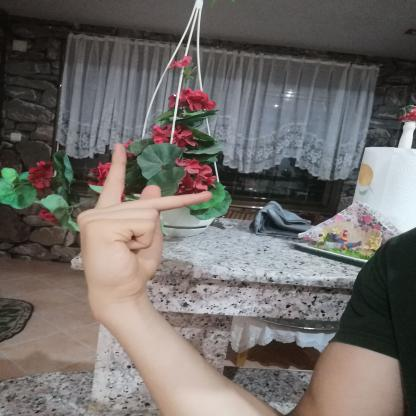DHAA: (63, 136, 224, 316)
